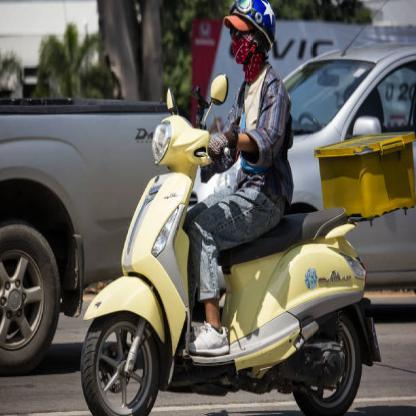Motorcycle: (75, 78, 387, 415)
